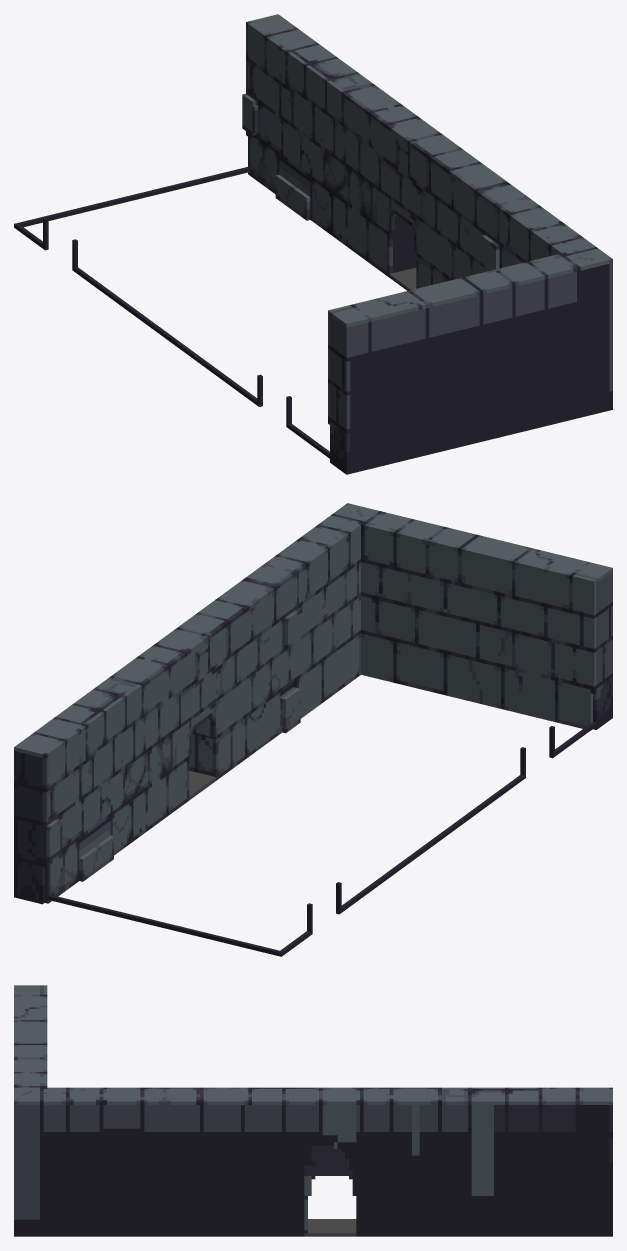
The model's file is castle_caelyra_hall-6-wall.obj.
The picture shows the model from 3 angles, top to bottom: view 1: azimuth 30°, elevation 25°; view 2: azimuth 150°, elevation 25°; view 3: azimuth 270°, elevation 25°; orthographic projection. The views are drawn at different scales.
Visible parts, largest first — view 1: wall; view 2: wall; view 3: wall.
Boxes of the visible parts, x1=… form: wall: x1=14, y1=14, x2=612, y2=474; wall: x1=14, y1=503, x2=612, y2=956; wall: x1=14, y1=985, x2=612, y2=1236.
Size of the model in its own units: 7.4 by 4 by 16.1.
Materials: 1 (1 with a texture image).
